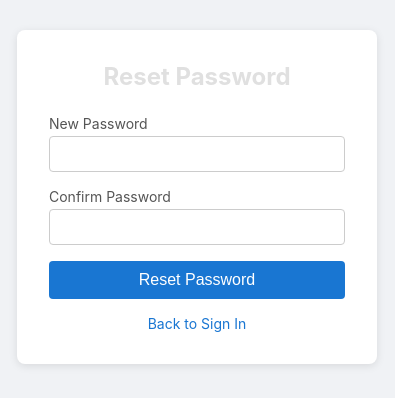
Scenario: ResetPasswordPage › shows error when passwords do not match
Type "password1" into the password field labelled "New Password" at point(197, 154), box left=49, top=136, right=345, bottom=172
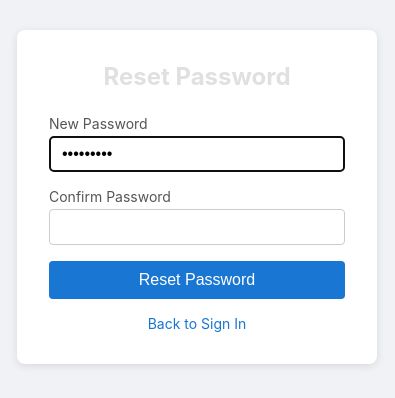
Type "password2" into the password field labelled "Confirm Password" at point(197, 227), box left=49, top=209, right=345, bottom=245
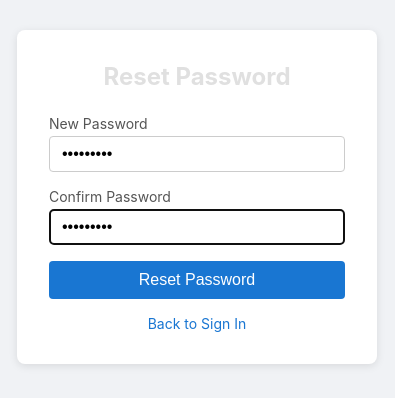
Click the button "Reset Password" at point(197, 280), box left=49, top=261, right=345, bottom=299
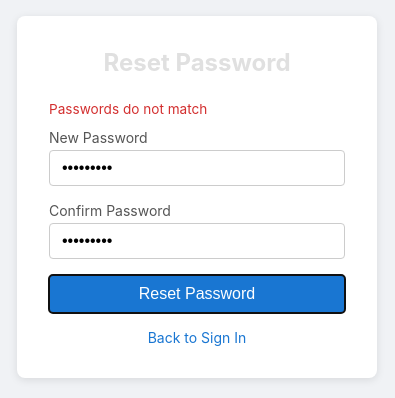
Check: the text "Passwords do not match" is shown, box left=49, top=101, right=207, bottom=117
